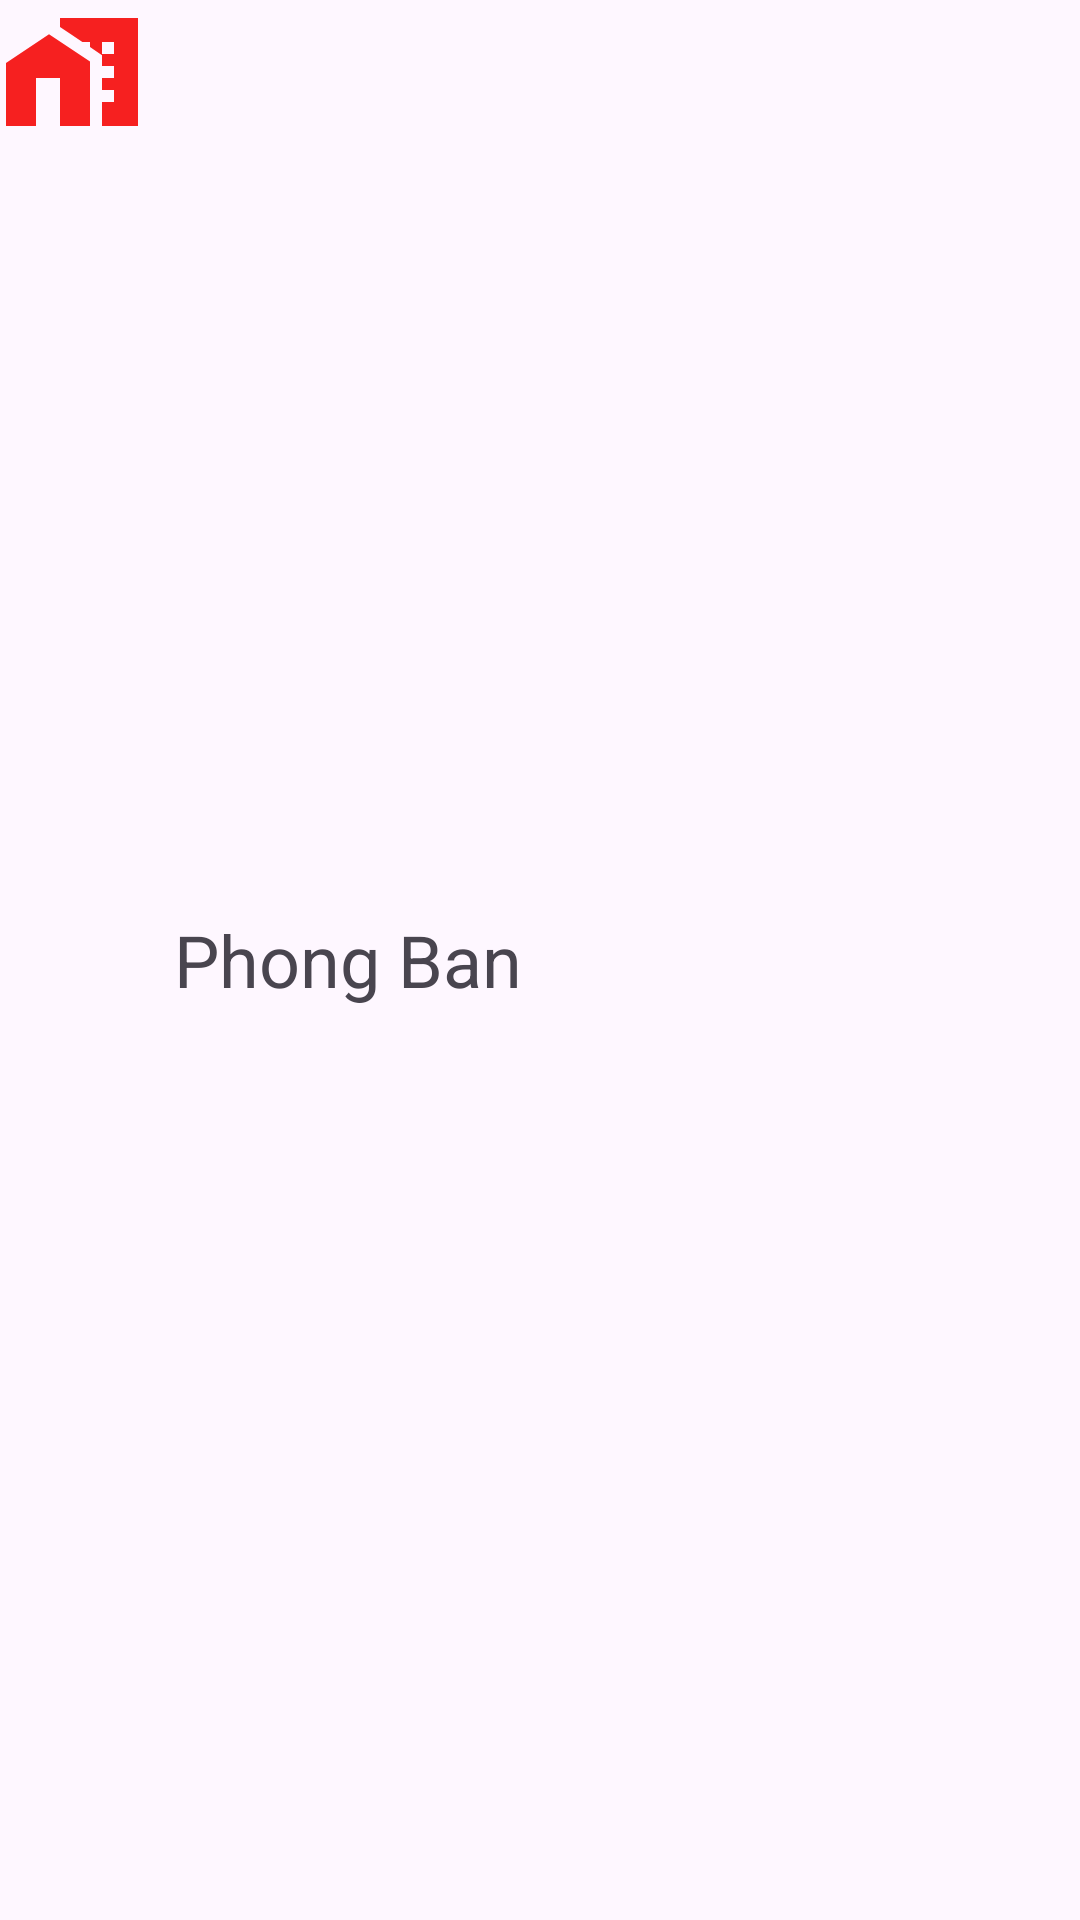

Screen size 1080×1920. Icon name, then its center in pixels as (x=x, y=y):
home work: (x=72, y=72)
